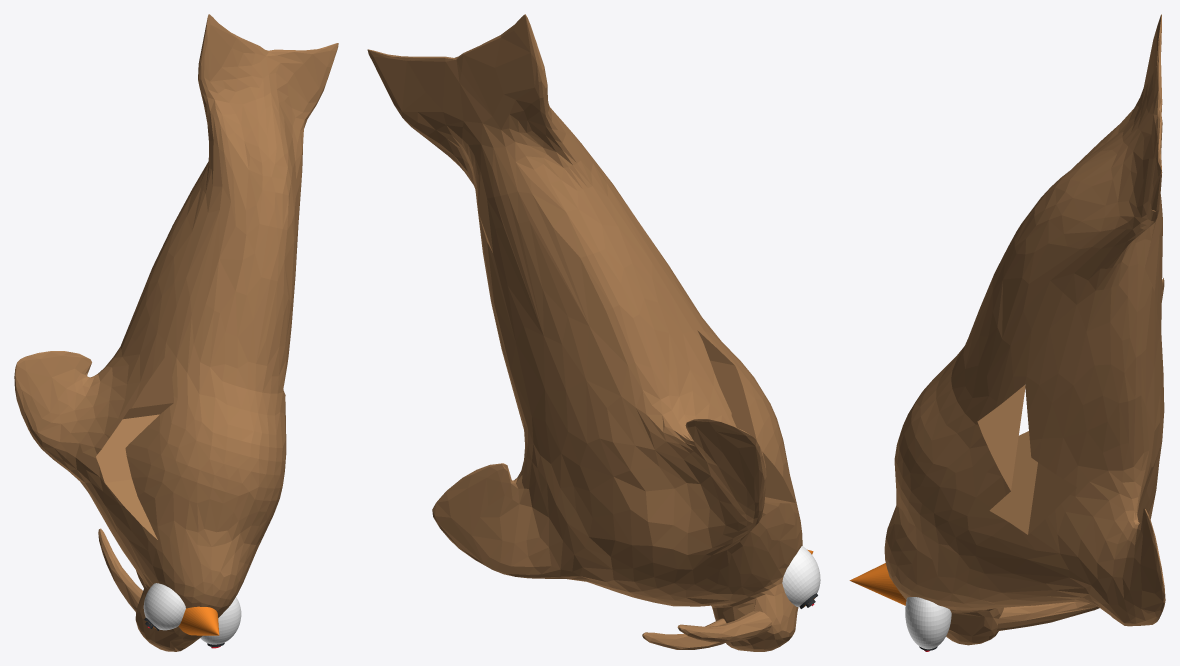
Rendered from tinker.obj.
3 renders of one model, left to right at view 1: azimuth 30°, elevation 25°; view 2: azimuth 150°, elevation 25°; view 3: azimuth 270°, elevation 25°, orthographic. The views are drawn at different scales.
Parts seen in each view (by area): view 1: group_0_11107152, group_0_16448250, group_0_16089887; view 2: group_0_11107152, group_0_16448250; view 3: group_0_11107152, group_0_16448250, group_0_16089887.
Part boxes in pixels (x1,y1,x2,y2): group_0_11107152: [14, 14, 338, 651]; group_0_16448250: [143, 583, 241, 644]; group_0_16089887: [149, 606, 219, 635]; group_0_11107152: [367, 14, 802, 651]; group_0_16448250: [782, 546, 820, 606]; group_0_11107152: [884, 14, 1165, 645]; group_0_16448250: [905, 597, 951, 649]; group_0_16089887: [849, 563, 906, 605].
Bounding box in the file's own units: 51 × 82.6 × 34.
